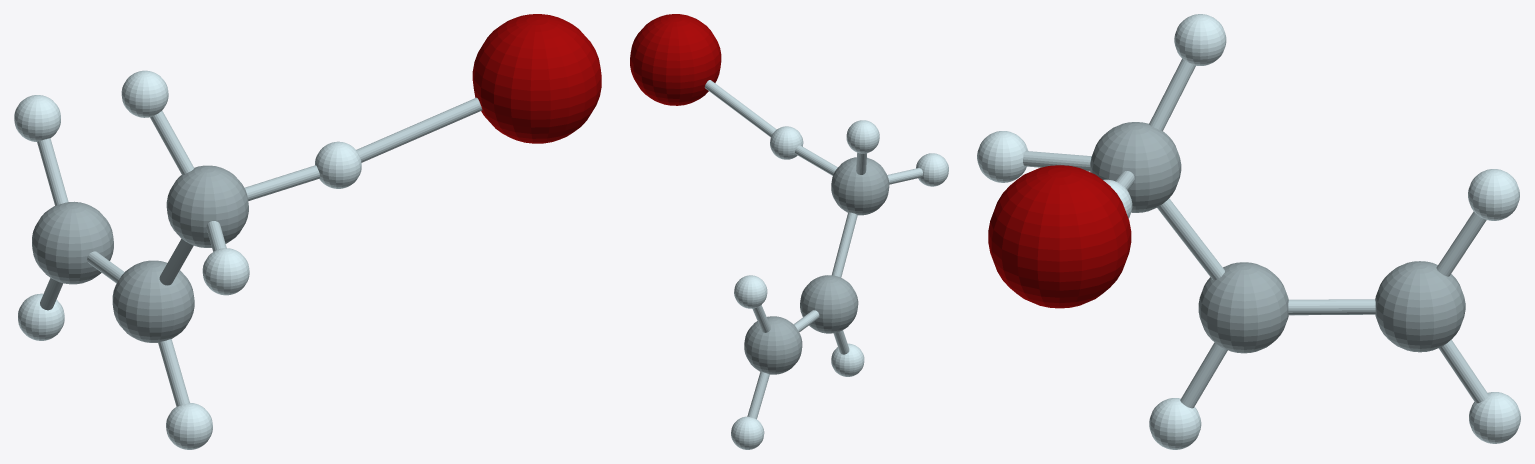
Rendered from irc_step_010.glb.
3 views of the same model, side by side, from view 1: azimuth 30°, elevation 25°; view 2: azimuth 150°, elevation 25°; view 3: azimuth 270°, elevation 25° (orthographic). The views are drawn at different scales.
Parts seen in each view (by area): view 1: Renderer Node; view 2: Renderer Node; view 3: Renderer Node.
Boxes of the visible parts, left/top/right/bottom form: Renderer Node: left=14, top=14, right=601, bottom=449; Renderer Node: left=630, top=14, right=948, bottom=449; Renderer Node: left=977, top=14, right=1520, bottom=449.
Bounding box in the file's own units: 4.04 × 3.68 × 4.17.
